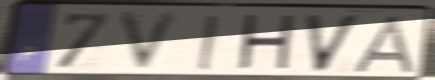7: (54, 11, 113, 72)
A: (348, 14, 421, 75)
H: (234, 12, 298, 74)
I: (196, 14, 220, 72)
V: (115, 9, 184, 75), (302, 13, 364, 75)
